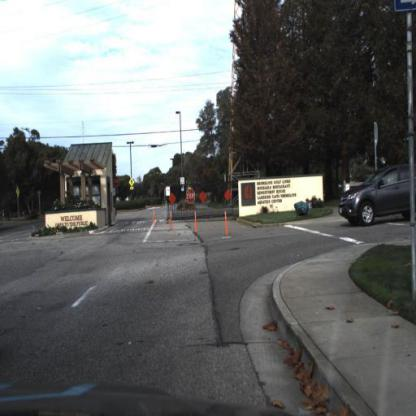car: (337, 158, 416, 229)
